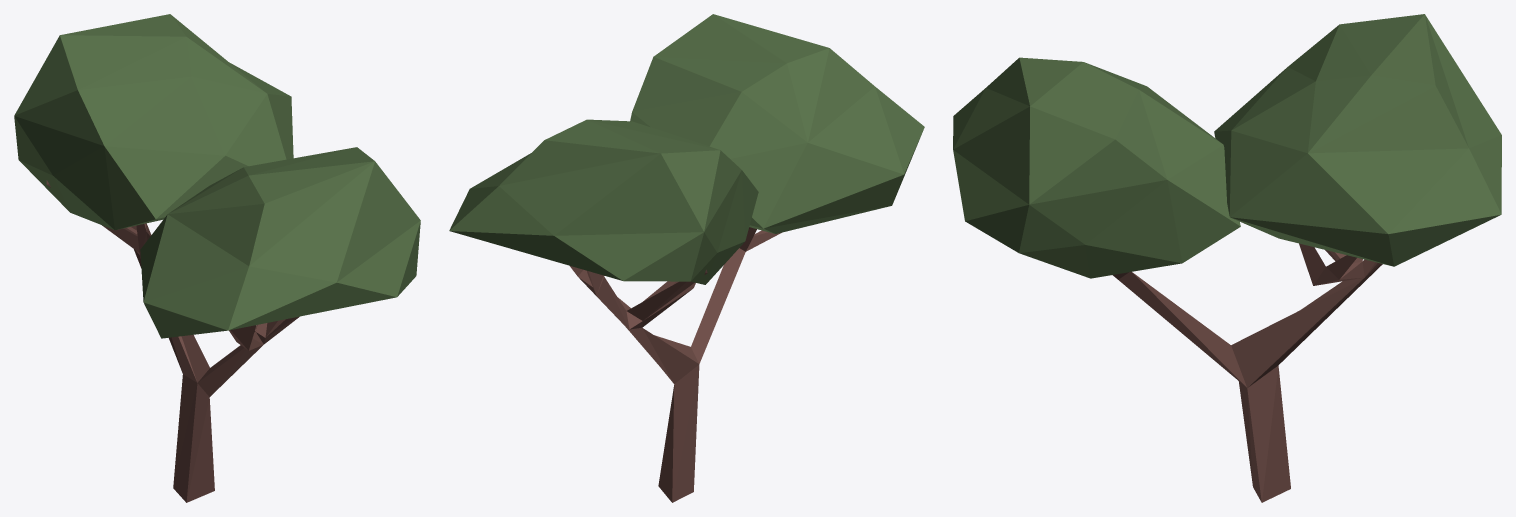
The picture shows the model from 3 angles, left to right: view 1: azimuth 30°, elevation 25°; view 2: azimuth 150°, elevation 25°; view 3: azimuth 270°, elevation 25°; orthographic projection. The views are drawn at different scales.
Visible parts, largest first — view 1: cube-049; view 2: cube-049; view 3: cube-049.
Part boxes in pixels (left/top/right/bottom): cube-049: left=14, top=14, right=420, bottom=502; cube-049: left=449, top=14, right=924, bottom=502; cube-049: left=953, top=14, right=1501, bottom=502.
Bounding box in the file's own units: 1.81 × 2.43 × 2.7.
